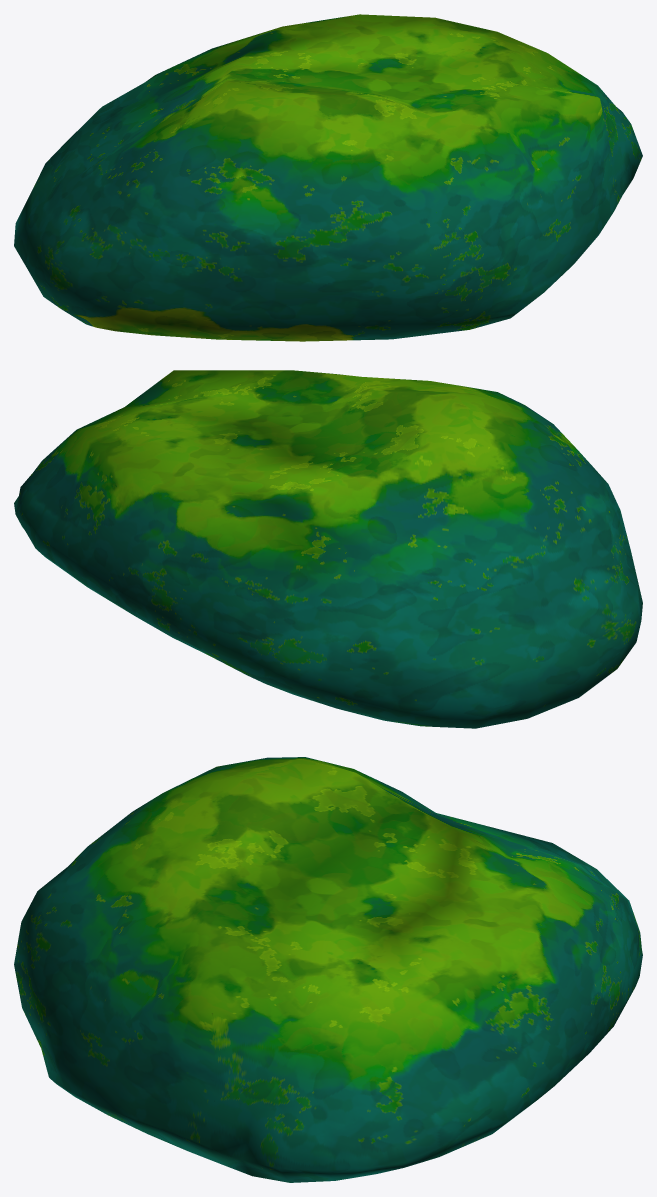
Rendered from montana_Muelle.fbx.
The picture shows the model from 3 angles, top to bottom: view 1: azimuth 30°, elevation 25°; view 2: azimuth 150°, elevation 25°; view 3: azimuth 270°, elevation 25°; orthographic projection. The views are drawn at different scales.
Visible parts, largest first — view 1: montana2sendero; view 2: montana2sendero; view 3: montana2sendero.
Part boxes in pixels (bbox=[...]): montana2sendero: bbox=[14, 14, 642, 341]; montana2sendero: bbox=[14, 370, 642, 728]; montana2sendero: bbox=[14, 757, 642, 1182].
Size of the model in its own units: 20630 by 7698 by 16311.
